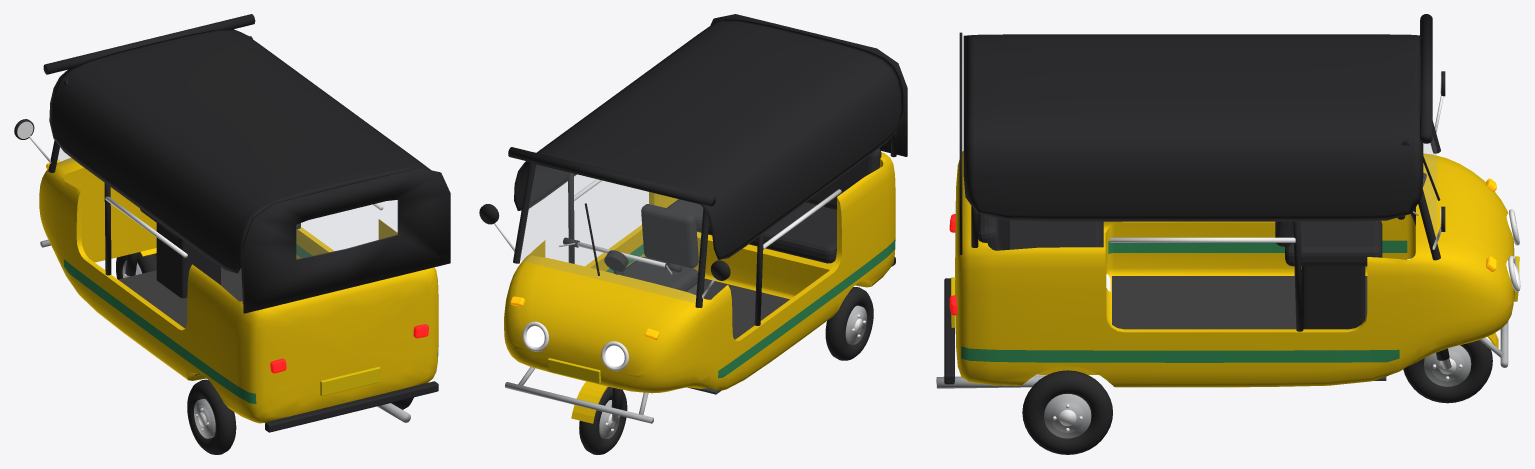
The model's file is auto_rickshaw_lod1.glb.
3 renders of one model, left to right at view 1: azimuth 30°, elevation 25°; view 2: azimuth 150°, elevation 25°; view 3: azimuth 270°, elevation 25°, orthographic. The views are drawn at different scales.
Parts seen in each view (by area): view 1: auto_body, wheel_rear_left, wheel_front; view 2: auto_body, wheel_rear_left, wheel_front; view 3: auto_body, wheel_rear_right, wheel_front.
Boxes of the visible parts, left/top/right/bottom form: auto_body: left=14, top=14, right=450, bottom=432; wheel_rear_left: left=187, top=379, right=236, bottom=454; wheel_front: left=116, top=252, right=156, bottom=279; auto_body: left=479, top=14, right=907, bottom=423; wheel_rear_left: left=825, top=287, right=873, bottom=360; wheel_front: left=579, top=387, right=627, bottom=454; auto_body: left=936, top=14, right=1520, bottom=388; wheel_rear_right: left=1022, top=370, right=1112, bottom=454; wheel_front: left=1403, top=340, right=1492, bottom=403.
Bounding box in the file's own units: 1.64 × 1.72 × 2.77.
